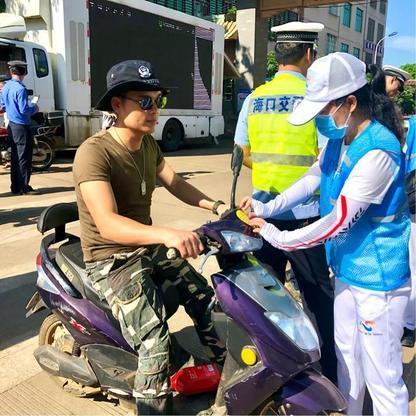target: (23, 57, 346, 414)
